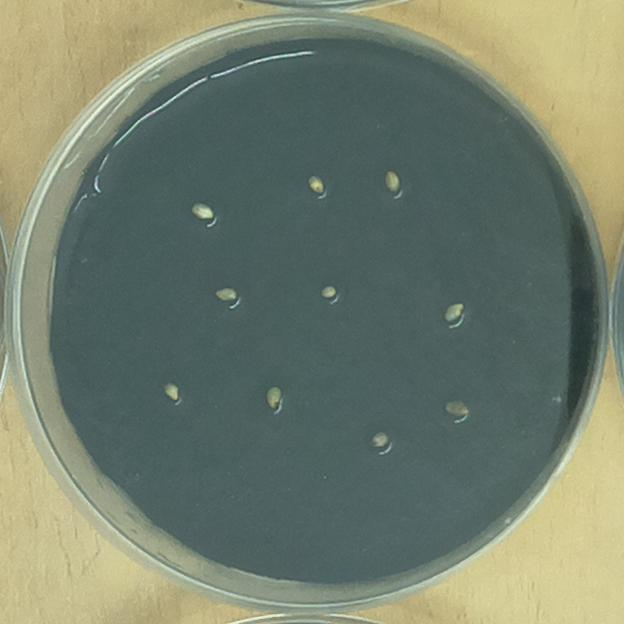pg_im: (204, 279, 250, 314), (183, 193, 224, 232), (257, 377, 293, 420), (361, 420, 399, 460), (296, 168, 336, 204), (437, 393, 477, 428), (375, 163, 410, 202), (436, 296, 472, 332), (155, 374, 189, 410), (312, 277, 348, 310)
